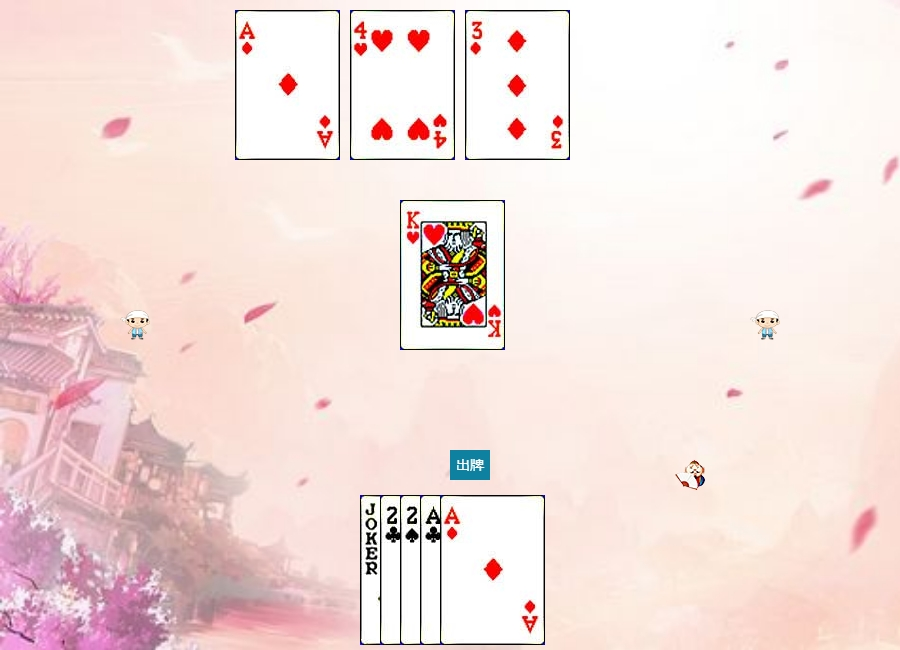13~3: (400, 200, 505, 350)
14~1: (235, 10, 340, 160), (440, 495, 545, 645)
14~2: (420, 495, 525, 645)
15~2: (380, 495, 485, 645)
15~4: (400, 495, 505, 645)
17~3: (360, 495, 465, 645)
3~1: (465, 10, 570, 160)
4~3: (350, 10, 455, 160)
